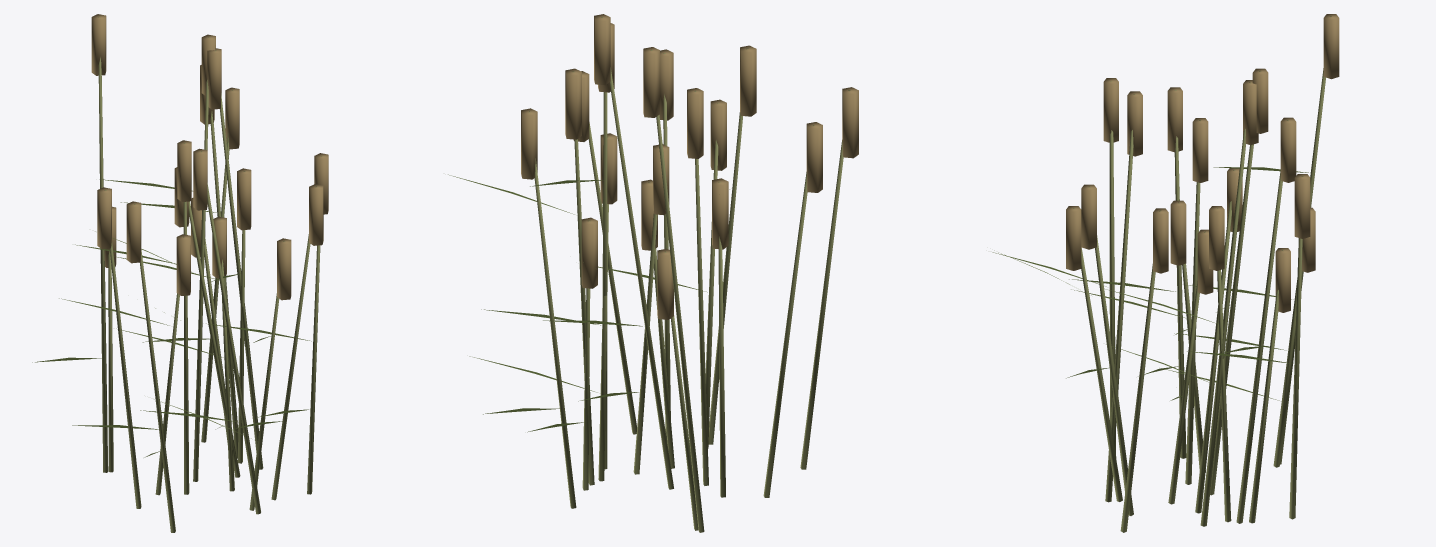
The model's file is reeds.glb.
The picture shows the model from 3 angles, left to right: view 1: azimuth 30°, elevation 25°; view 2: azimuth 150°, elevation 25°; view 3: azimuth 270°, elevation 25°; orthographic projection. The views are drawn at different scales.
Parts seen in each view (by area): view 1: reeds; view 2: reeds; view 3: reeds.
Boxes of the visible parts, <box> form: reeds: <box>32,14,328,532</box>; reeds: <box>448,14,858,532</box>; reeds: <box>992,14,1339,532</box>.
Bounding box in the file's own units: 1.33 × 1.78 × 1.55.
